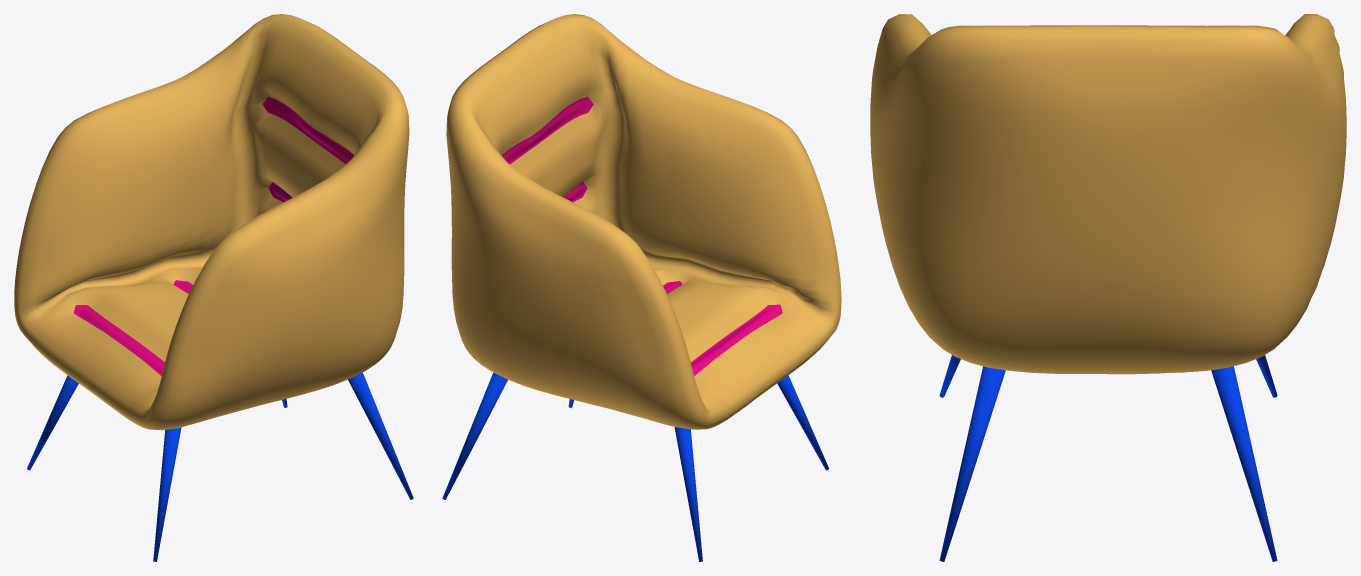
File: Sillón_CFS.fbx
The picture shows the model from 3 angles, left to right: view 1: azimuth 30°, elevation 25°; view 2: azimuth 150°, elevation 25°; view 3: azimuth 270°, elevation 25°; orthographic projection. The views are drawn at different scales.
Parts seen in each view (by area): view 1: Cube, Cylinder; view 2: Cube, Cylinder; view 3: Cube, Cylinder.
Part boxes in pixels (x1,y1,x2,y2): Cube: [14, 14, 409, 430]; Cylinder: [27, 372, 413, 561]; Cube: [446, 14, 841, 429]; Cylinder: [442, 372, 828, 561]; Cube: [870, 14, 1346, 374]; Cylinder: [939, 355, 1277, 561].
Size of the model in its own units: 110 by 147 by 119.
